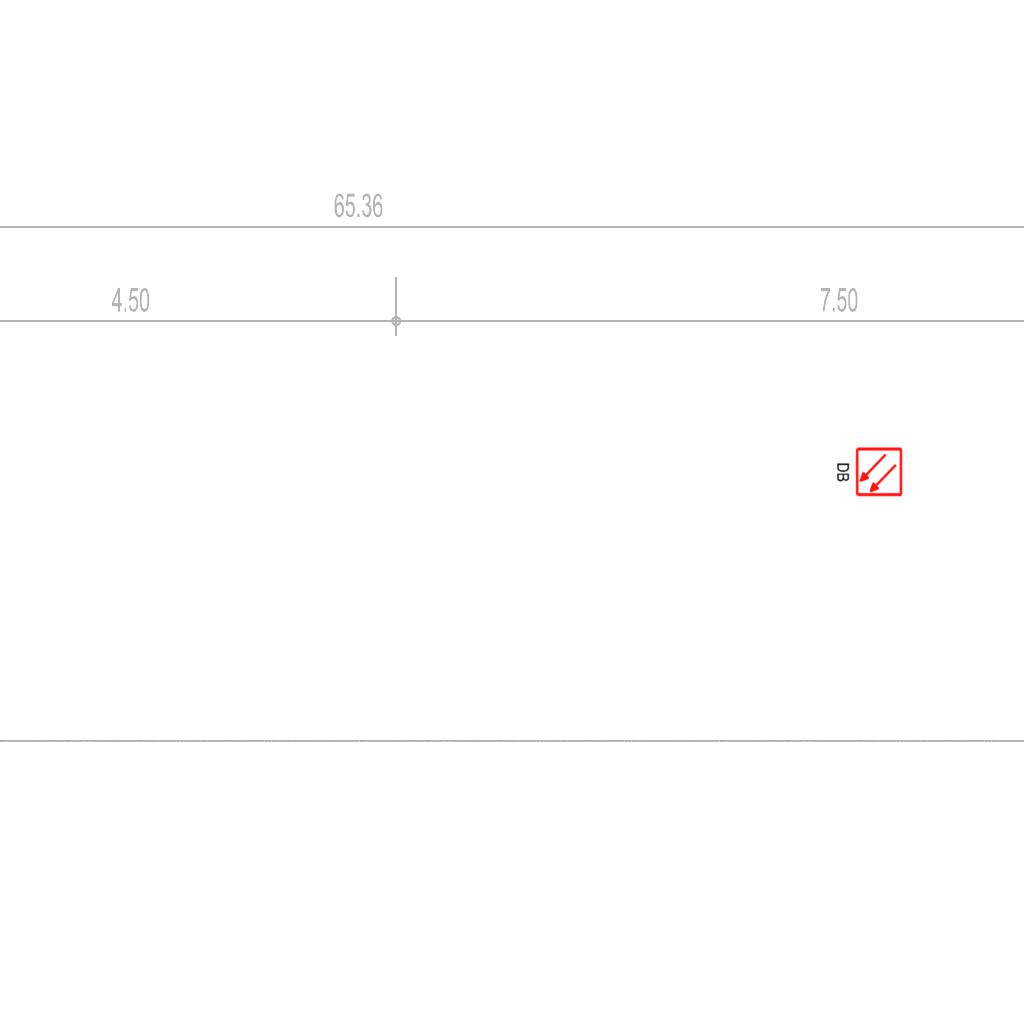DB_Melder_in_Doppelboden_mit_Revisionsoeffnung_mind_40_x_40_cm: (832, 444, 906, 501)
